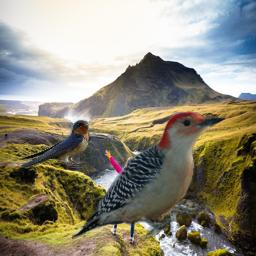Swallow: (7, 119, 93, 168)
Woodpecker: (72, 112, 229, 239)
